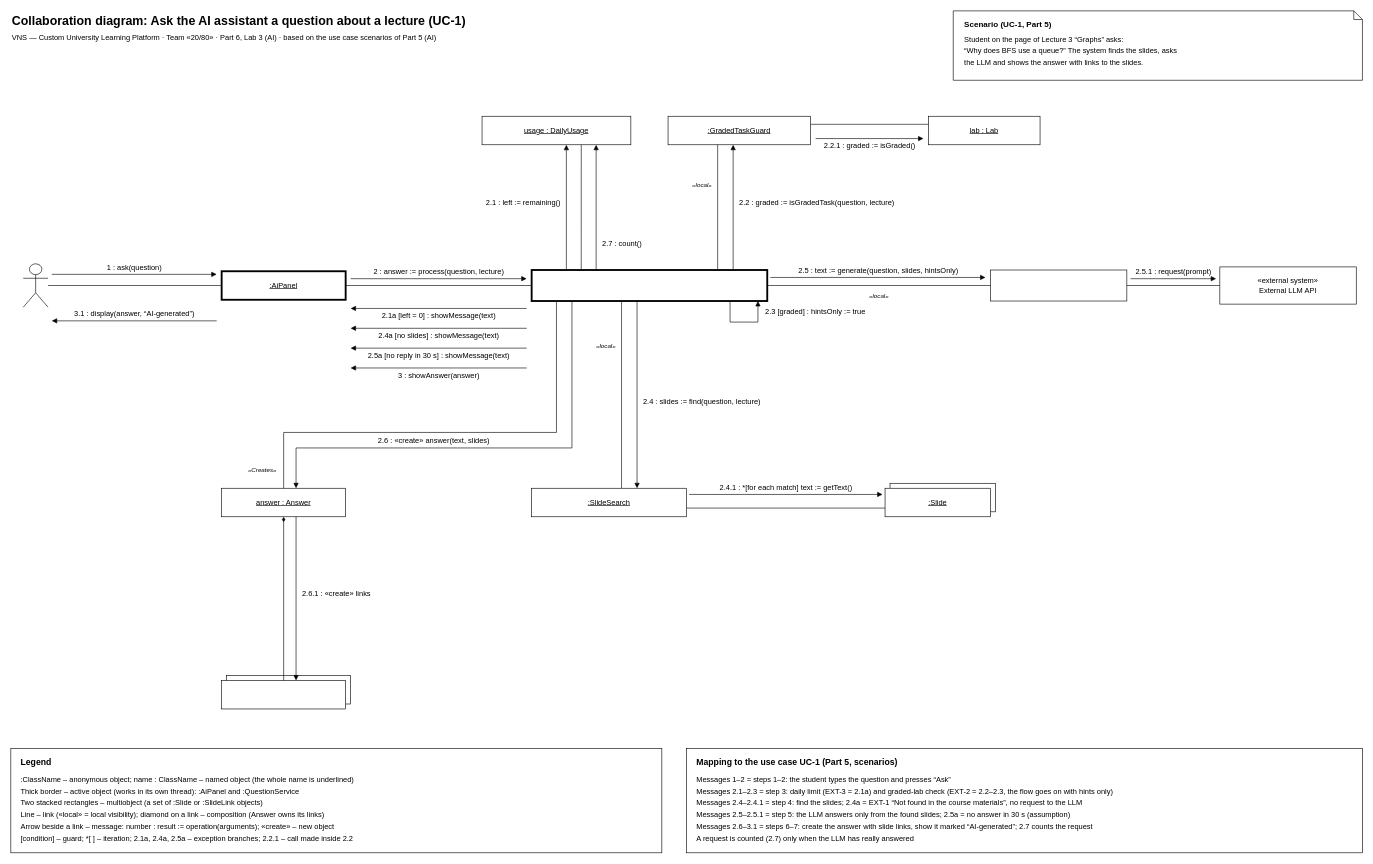
Image size: 1373x864. Some labels were removed from this diagram. Here are the shapes that lost their labels. From the top down, the centre of each, then its label:
At point 35,285: "Student".
At point 649,285: ":QuestionService".
At point 1058,285: ":LlmGateway".
At point 283,694: ":SlideLink".
